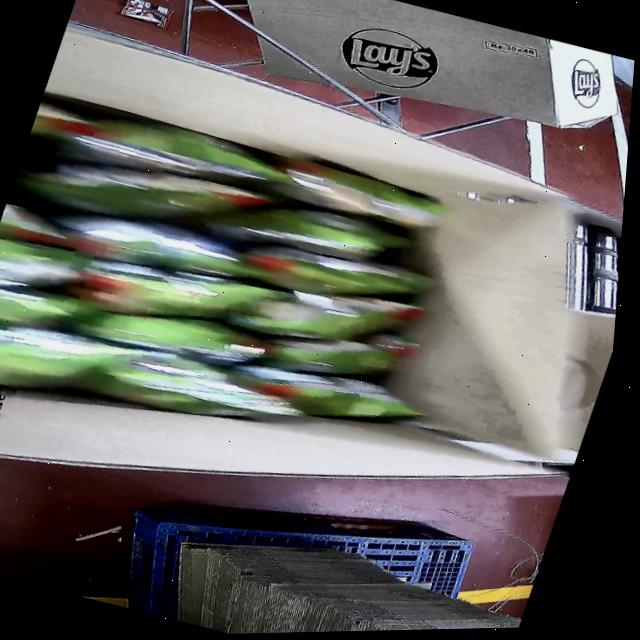YOGURT_HERB: (0, 79, 501, 502)
